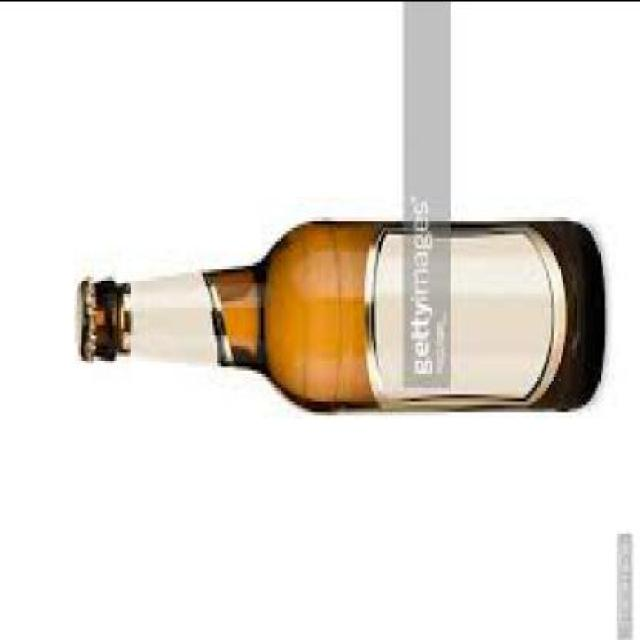GLASS: (90, 223, 604, 414)
METAL: (72, 286, 96, 366)
